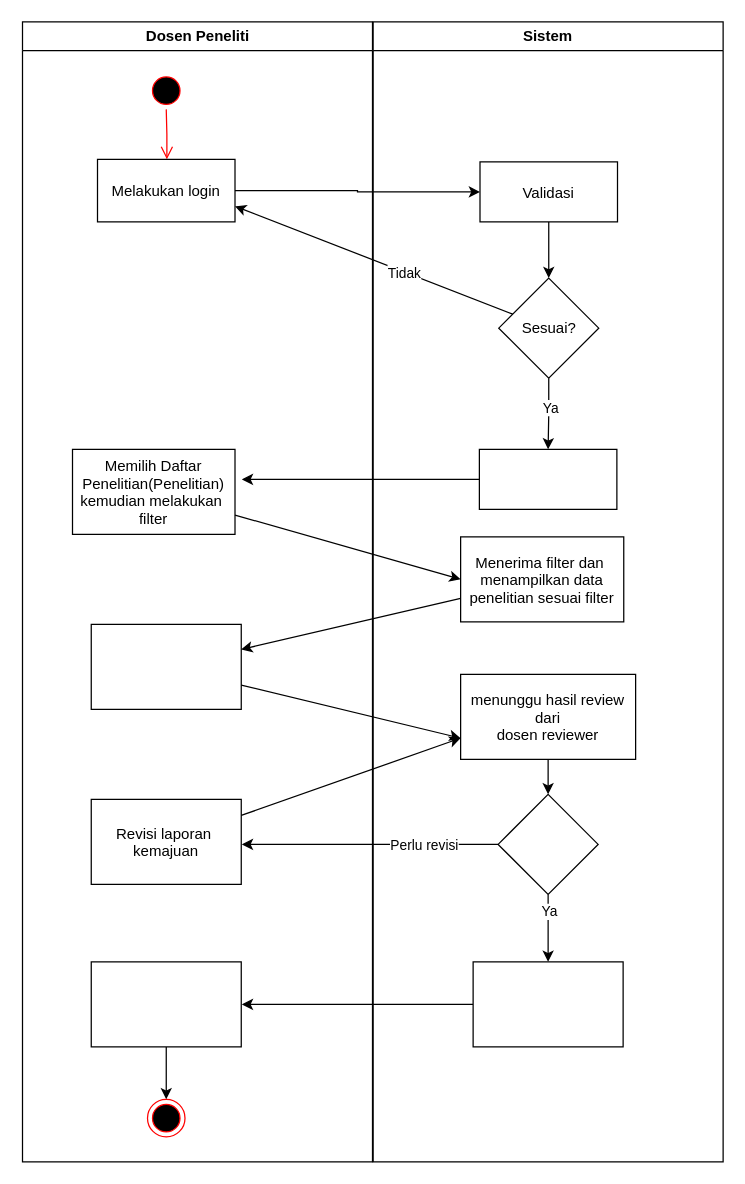
Image size: 745x1184. Some labels were removed from this diagram. Here are the shapes that lost their labels. From the top down, the centre of each, then its label:
At point (547, 478): "Menampilkan halaman utama".
At point (165, 666): "memilih data penelitian, kemudian upload laporan kemajuan".
At point (547, 843): "Diterima?".
At point (165, 1004): "mendapat notifikasi hasil review".
At point (547, 1004): "mengirim notifikasi hasil review".
